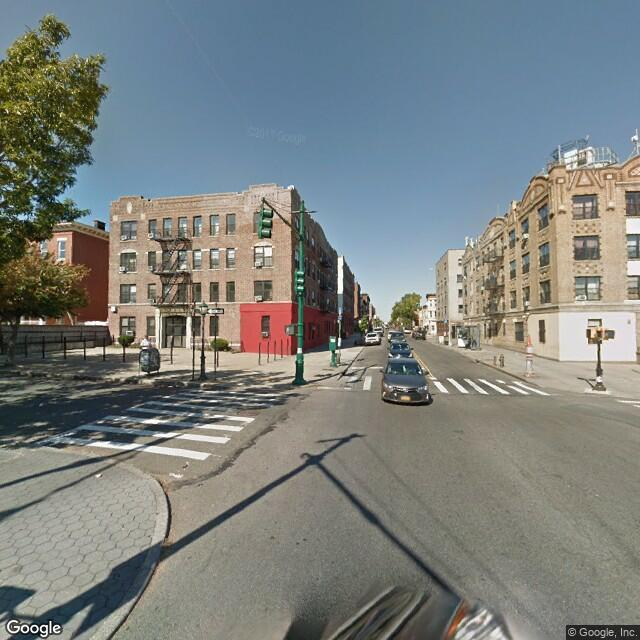litter: (92, 470, 102, 481), (180, 462, 190, 467)
